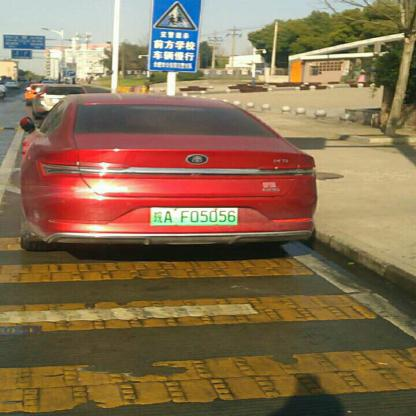lp: (148, 206, 238, 225)
